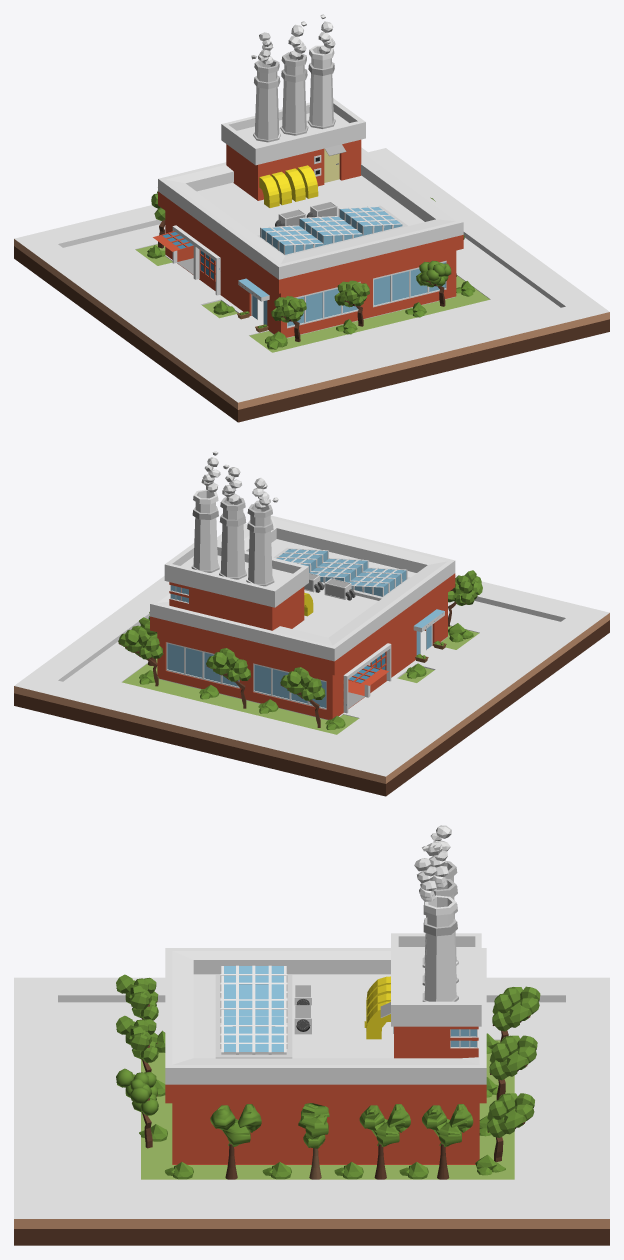
The model's file is factory.glb.
3 views of the same model, one above another, from view 1: azimuth 30°, elevation 25°; view 2: azimuth 150°, elevation 25°; view 3: azimuth 270°, elevation 25° (orthographic). The views are drawn at different scales.
Parts seen in each view (by area): view 1: Plane.002_Plane.004, Cube.013_Cube.038, Cube.014_Cube.025, Cube.011_Cube.036; view 2: Plane.002_Plane.004, Cube.016_Cube.040, Cube.018_Cube.042, Cube.020_Cube.044, Cube.014_Cube.025, Cube.032_Cube.066; view 3: Plane.002_Plane.004, Cube.018_Cube.042, Cube.016_Cube.040, Cube.020_Cube.044, Cube.013_Cube.038, Cube.011_Cube.036, Cube.014_Cube.025, Cube.033_Cube.067, Cube.032_Cube.066.
Part boxes in pixels (x1,y1,x2,y2): Plane.002_Plane.004: (14, 45, 609, 422); Cube.013_Cube.038: (416, 260, 451, 287); Cube.014_Cube.025: (271, 296, 306, 322); Cube.011_Cube.036: (334, 280, 369, 307); Plane.002_Plane.004: (14, 489, 609, 796); Cube.016_Cube.040: (118, 625, 163, 659); Cube.018_Cube.042: (206, 648, 250, 681); Cube.020_Cube.044: (280, 667, 325, 700); Cube.014_Cube.025: (448, 570, 482, 605); Cube.032_Cube.066: (222, 464, 241, 504); Plane.002_Plane.004: (14, 861, 609, 1245); Cube.018_Cube.042: (489, 1035, 537, 1080); Cube.016_Cube.040: (487, 1093, 534, 1137); Cube.020_Cube.044: (492, 986, 540, 1031); Cube.013_Cube.038: (116, 1068, 158, 1115); Cube.011_Cube.036: (116, 1015, 158, 1062); Cube.014_Cube.025: (116, 974, 158, 1020); Cube.033_Cube.067: (414, 846, 436, 901); Cube.032_Cube.066: (426, 842, 448, 888).
Bounding box in the file's own units: 35.94 × 21.78 × 37.5.
3 materials, 1 textured.
